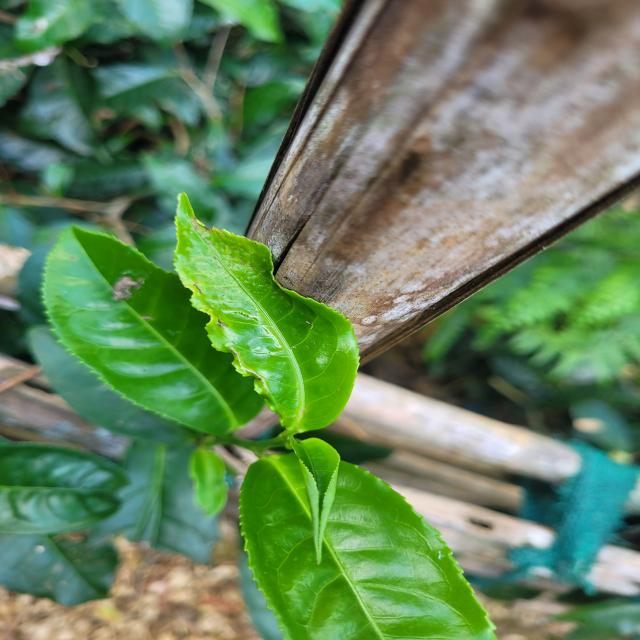Category D(7+ days, Not for Tea): (149, 178, 375, 447)
